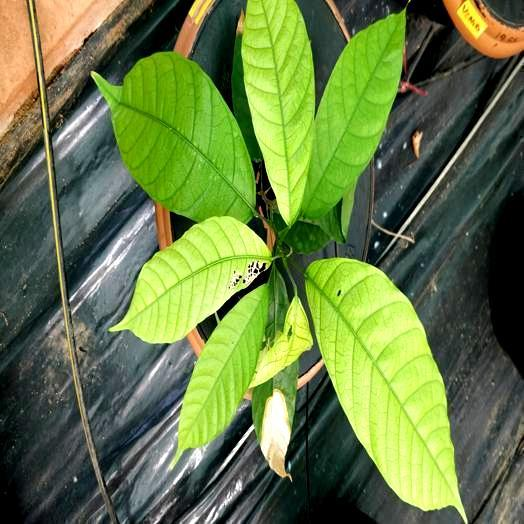Iron: (305, 258, 466, 523), (93, 51, 254, 221), (302, 10, 404, 218), (110, 216, 271, 342), (170, 284, 268, 467), (242, 0, 314, 225), (250, 269, 312, 476)
